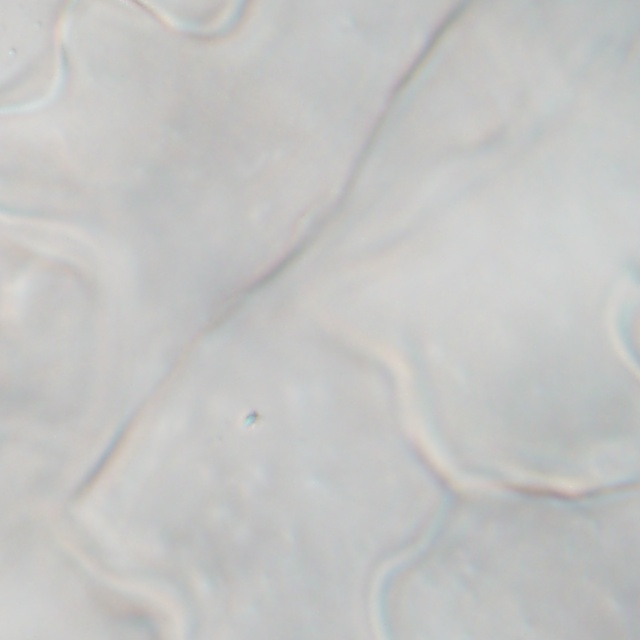center: (169, 16, 218, 21), (600, 319, 640, 323)
stomata-huw1: (139, 1, 248, 36), (608, 269, 639, 373)
